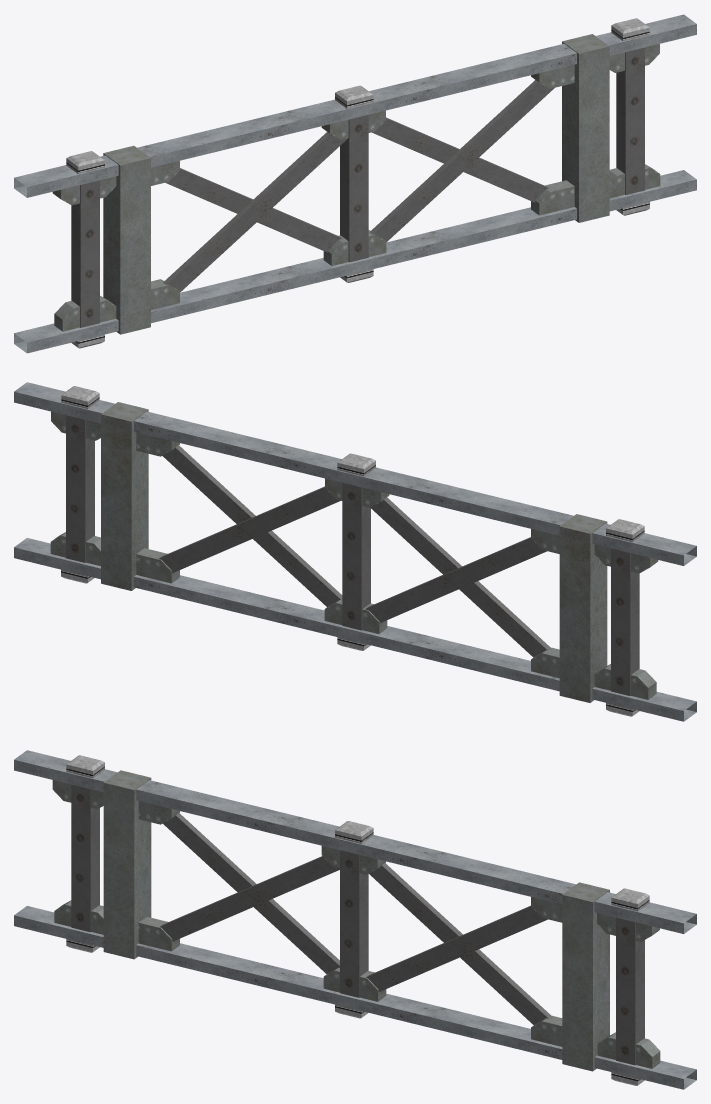
File: Ob_ScafHoriz_RC.fbx
3 renders of one model, top to bottom at view 1: azimuth 30°, elevation 25°; view 2: azimuth 150°, elevation 25°; view 3: azimuth 330°, elevation 25°, orthographic.
Visible parts, largest first — view 1: Ob_ScafHoriz_RC; view 2: Ob_ScafHoriz_RC; view 3: Ob_ScafHoriz_RC.
Boxes of the visible parts, <box> form: Ob_ScafHoriz_RC: <box>14,14,696,353</box>; Ob_ScafHoriz_RC: <box>14,382,696,721</box>; Ob_ScafHoriz_RC: <box>14,750,696,1089</box>.
Size of the model in its own units: 4833 by 1279 by 215.
